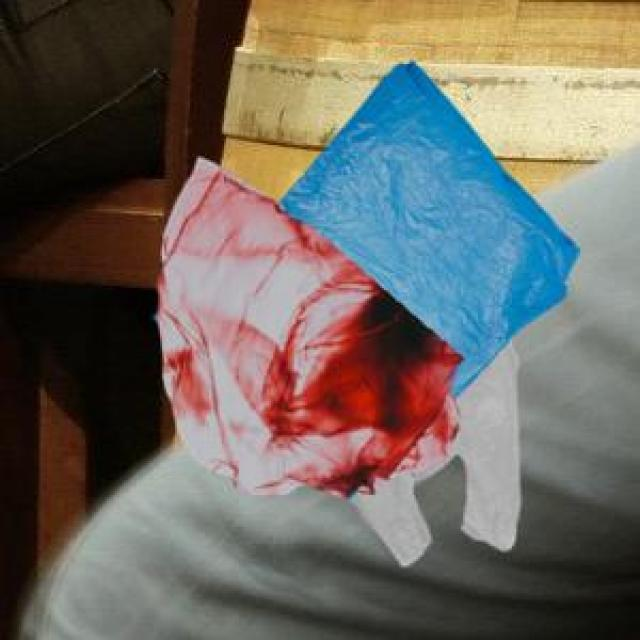waste: (158, 62, 579, 564)
